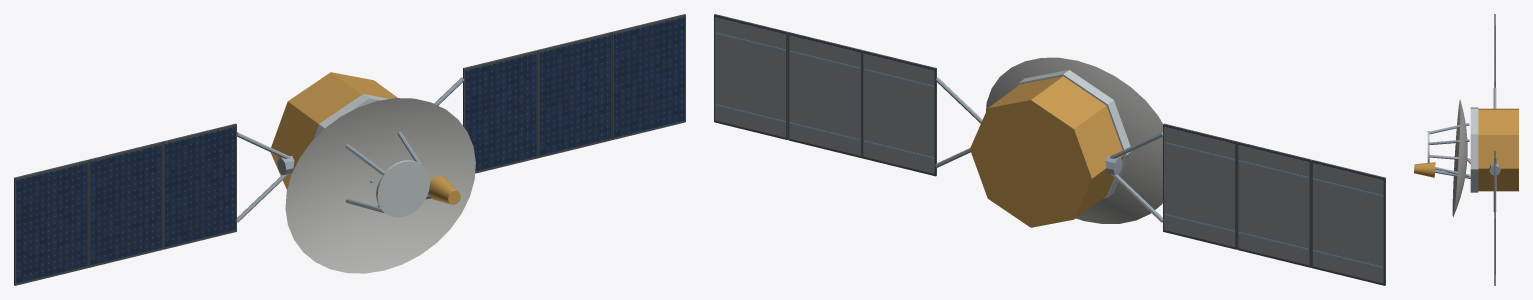
The model's file is ref-fltsatcom-10669.glb.
3 views of the same model, side by side, from view 1: azimuth 30°, elevation 25°; view 2: azimuth 150°, elevation 25°; view 3: azimuth 270°, elevation 25° (orthographic). The views are drawn at different scales.
Parts seen in each view (by area): view 1: Solar cell panel (×6), Deck-mounted reflector, Solar panel frame (×6), Service barrel, Antenna tower platform, Feed horn, Equipment flange; view 2: Rear array substrate (×6), Service barrel, Deck-mounted reflector, Solar panel frame (×6), Equipment flange; view 3: Service barrel, Deck-mounted reflector, Equipment flange, Antenna tower leg (×4), Feed horn, Array yoke (×2), Solar panel frame, Array drive, Offset feed boom, Antenna tower platform.
Part boxes in pixels (box(x1,y1,x2,y2)): Solar cell panel (×6): box(16, 17, 684, 283); Deck-mounted reflector: box(285, 98, 475, 273); Solar panel frame (×6): box(14, 14, 685, 285); Service barrel: box(270, 72, 397, 189); Antenna tower platform: box(376, 160, 429, 217); Feed horn: box(428, 176, 460, 204); Equipment flange: box(313, 94, 388, 139); Rear array substrate (×6): box(715, 17, 1383, 283); Service barrel: box(970, 76, 1124, 227); Deck-mounted reflector: box(986, 57, 1162, 223); Solar panel frame (×6): box(714, 14, 1385, 285); Equipment flange: box(1017, 70, 1132, 198); Service barrel: box(1478, 108, 1518, 191); Deck-mounted reflector: box(1452, 99, 1467, 216); Equipment flange: box(1470, 107, 1478, 192); Antenna tower leg (×4): box(1428, 123, 1469, 176); Feed horn: box(1414, 162, 1435, 177); Array yoke (×2): box(1493, 87, 1496, 211); Solar panel frame: box(1494, 196, 1495, 285); Array drive: box(1489, 163, 1500, 175); Offset feed boom: box(1435, 169, 1470, 178); Antenna tower platform: box(1427, 131, 1429, 162).
Size of the model in its own units: 13.19 by 3.1 by 2.85.
7 materials, 1 textured.
